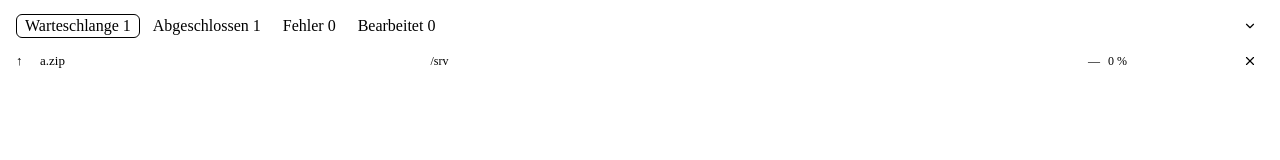
Test: TransferPanel › cancels a queued job and collapses to a summary
Click the button named "a.zip abbrechen" at (1250, 61), box top-left (1236, 47), bottom-right (1264, 75)
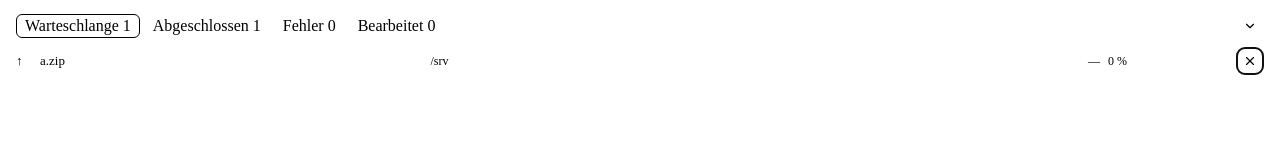
Click the button named "Übertragungen einklappen" at (1250, 26), box top-left (1236, 12), bottom-right (1264, 40)
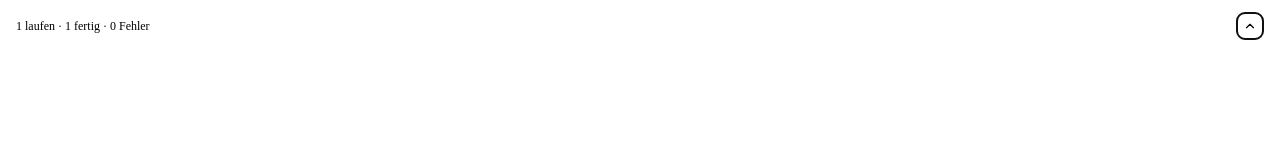
Check: the text "1 laufen · 1 fertig · 0 Fehler" is shown, box top-left (16, 18), bottom-right (150, 34)
Check: the text "a.zip" is gone
